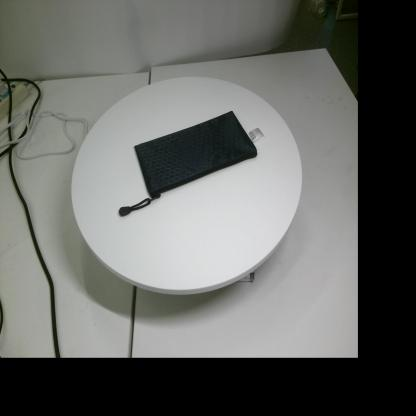Stationery: (118, 110, 264, 216)
